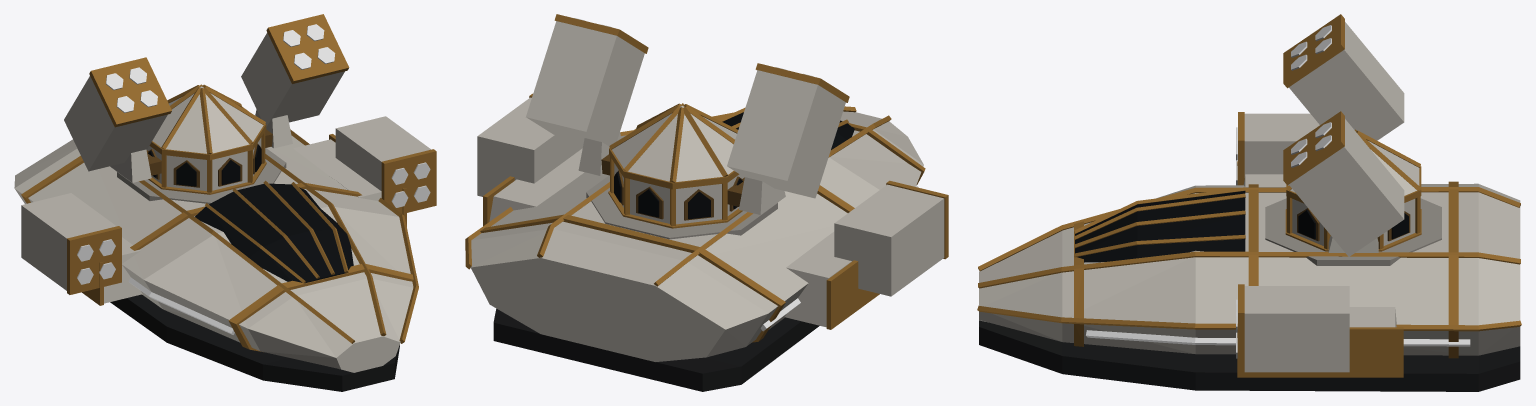
3 renders of one model, left to right at view 1: azimuth 30°, elevation 25°; view 2: azimuth 150°, elevation 25°; view 3: azimuth 270°, elevation 25°, orthographic. The views are drawn at different scales.
Parts seen in each view (by area): view 1: body, top; view 2: body, top; view 3: body, top.
Boxes of the visible parts, box(x1,y1,x2,y2) form: body: box(14, 116, 436, 391); top: box(64, 14, 349, 194); body: box(465, 93, 948, 391); top: box(526, 14, 849, 228); body: box(977, 112, 1521, 391); top: box(1283, 14, 1421, 256).
Bounding box in the file's own units: 5.71 × 3.48 × 6.55.
